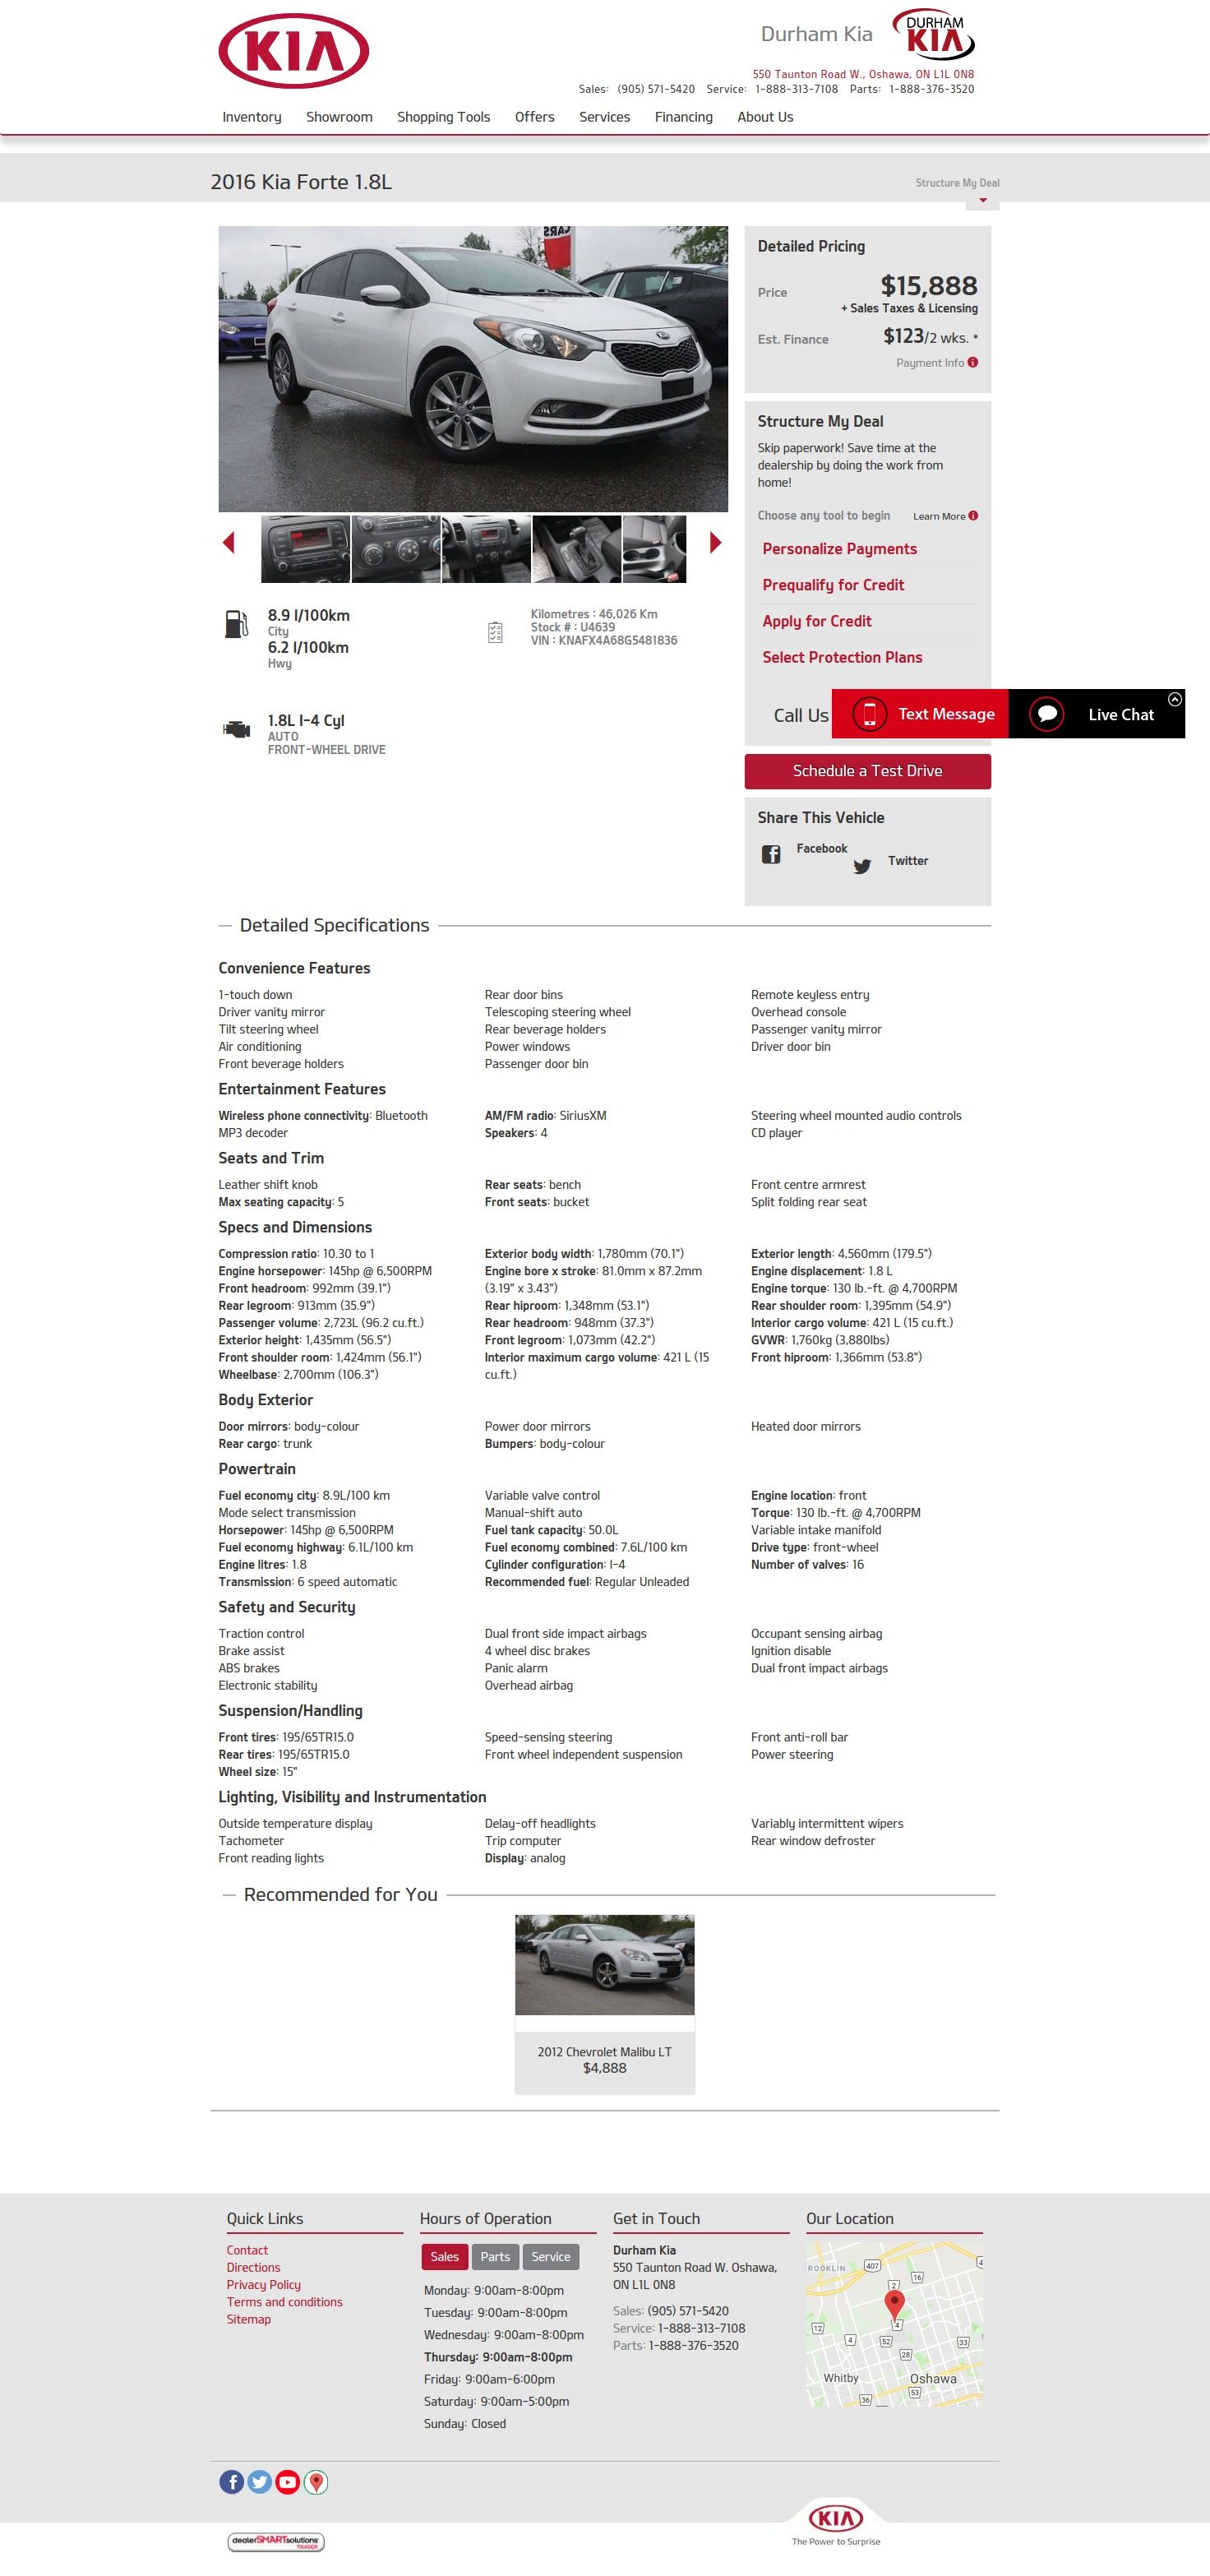car: (711, 532, 722, 554)
